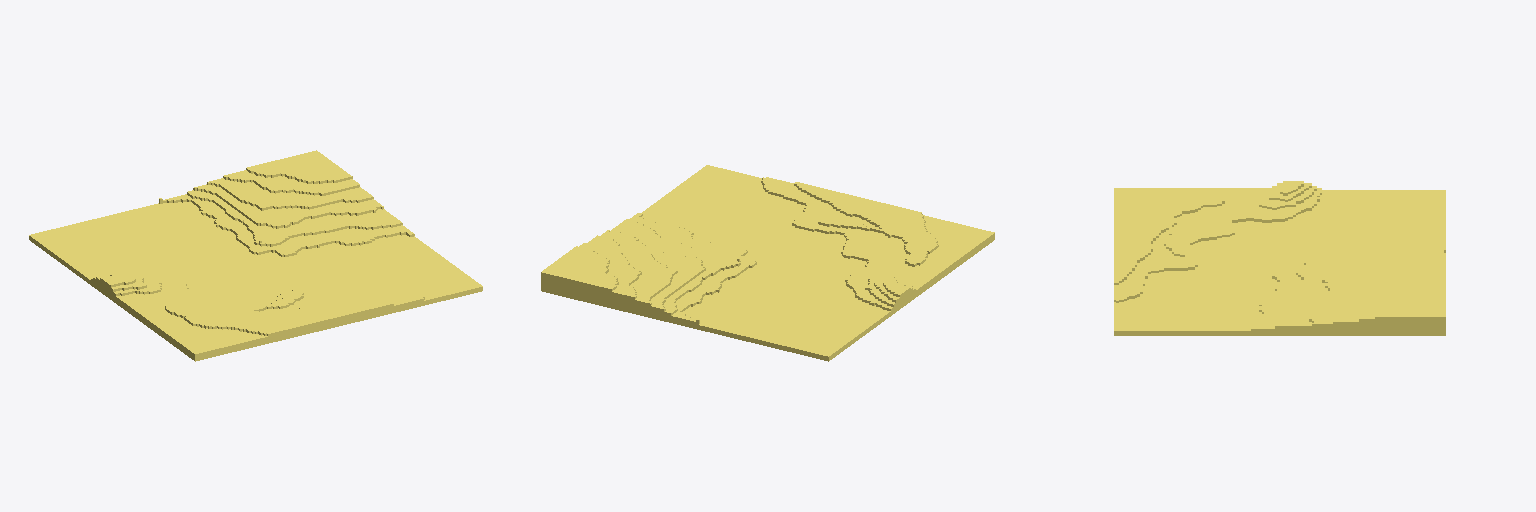
3 renders of one model, left to right at view 1: azimuth 30°, elevation 25°; view 2: azimuth 150°, elevation 25°; view 3: azimuth 270°, elevation 25°, orthographic.
Bounding box in the file's own units: 126 × 8 × 126.
1 materials, 1 textured.